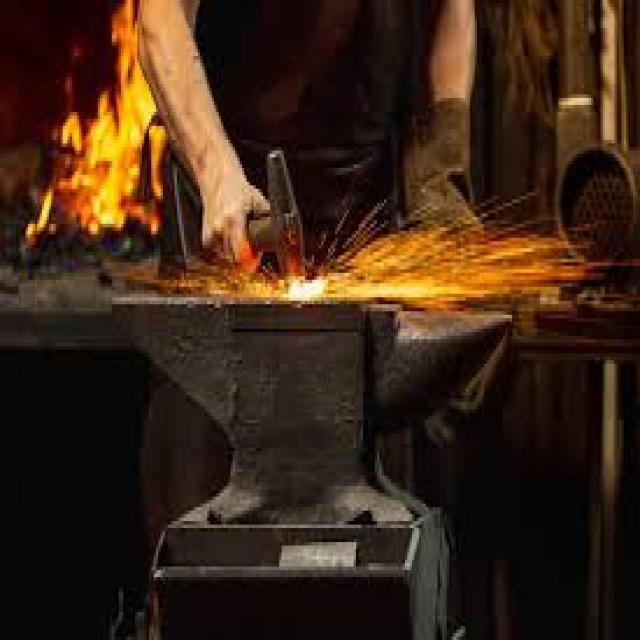hammer: (187, 140, 318, 298)
